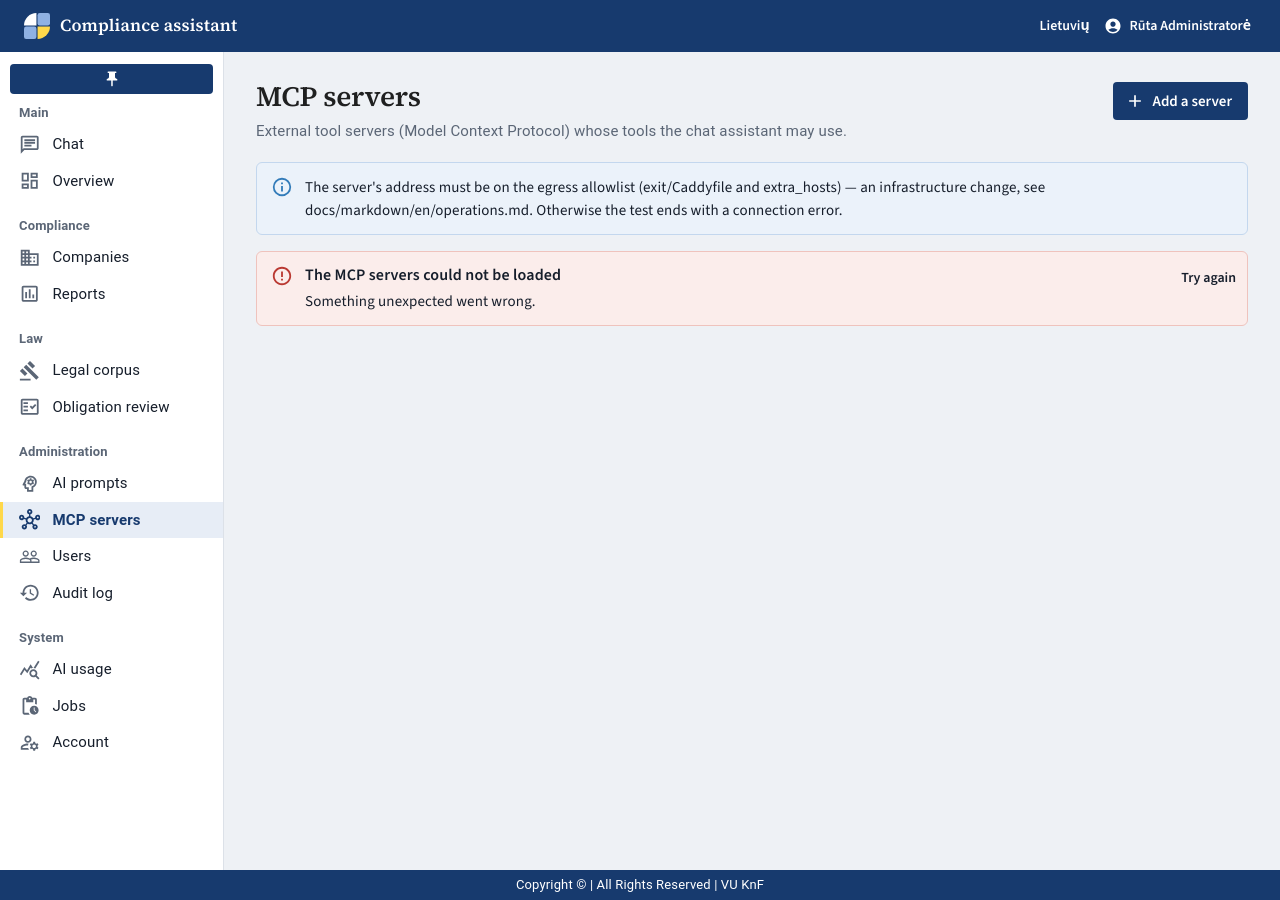
MCP servers page — loading, failed, malformed and empty › an answer with servers without ids fails like any bad answer — the error state and its retry, never mixed-up cards
The image size is (1280, 900).
Expected: the message "The MCP servers could not be loaded Something unexpected went wrong. Try again" is shown, [256, 251, 1248, 326]
Step 1. Click the button "Try again" → coordinates (1209, 278), box [1176, 262, 1241, 294]
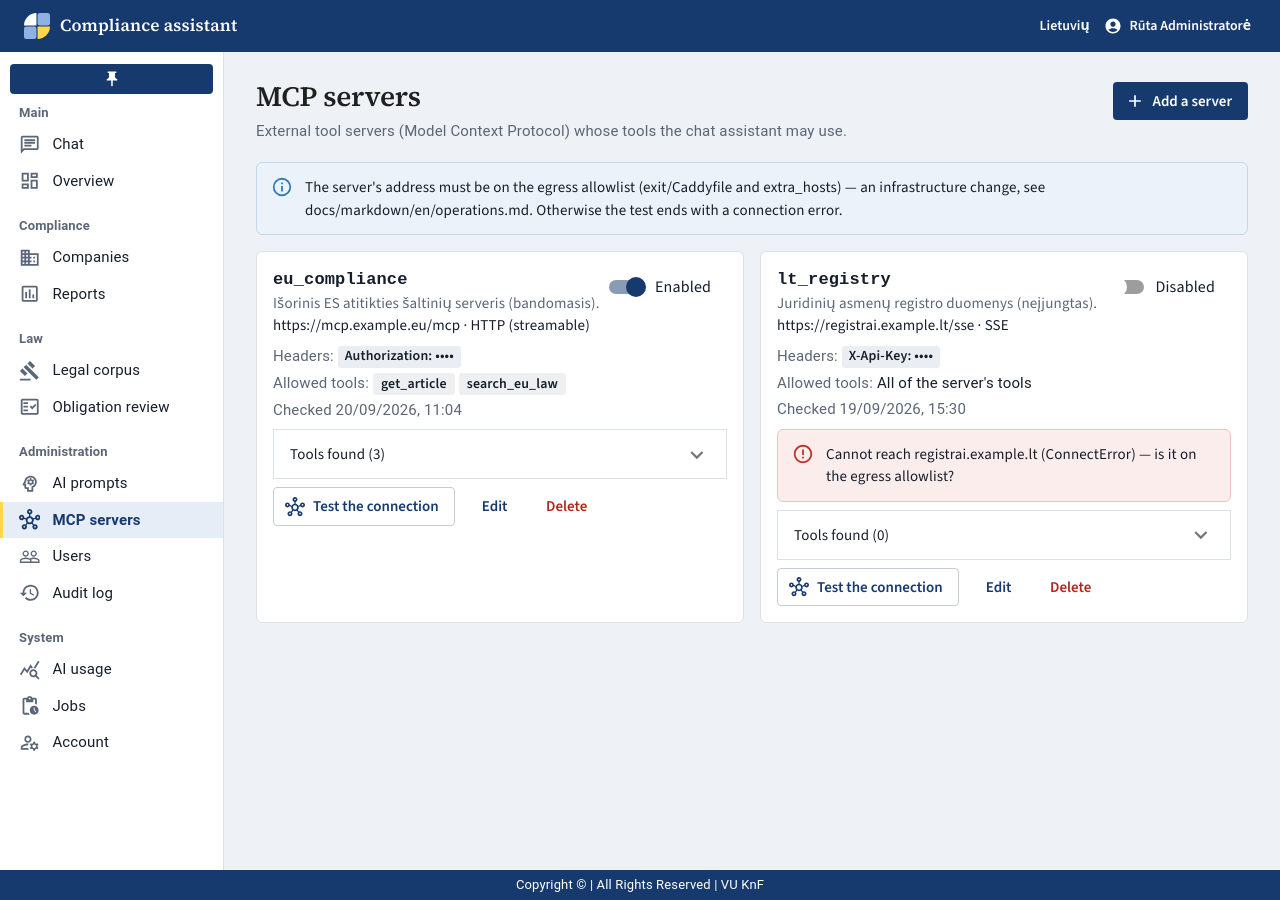
Expected: the list item "eu_compliance" is shown, [256, 251, 744, 623]
